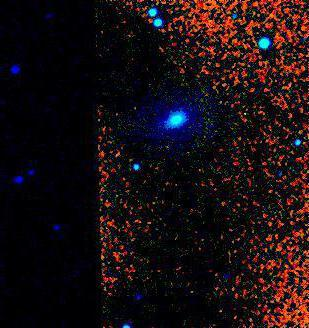star: (231, 97, 261, 127)
